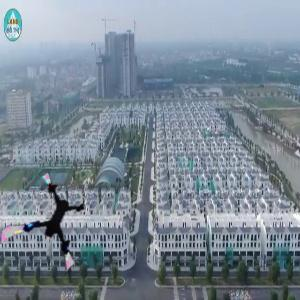drone: (8, 184, 99, 275)
